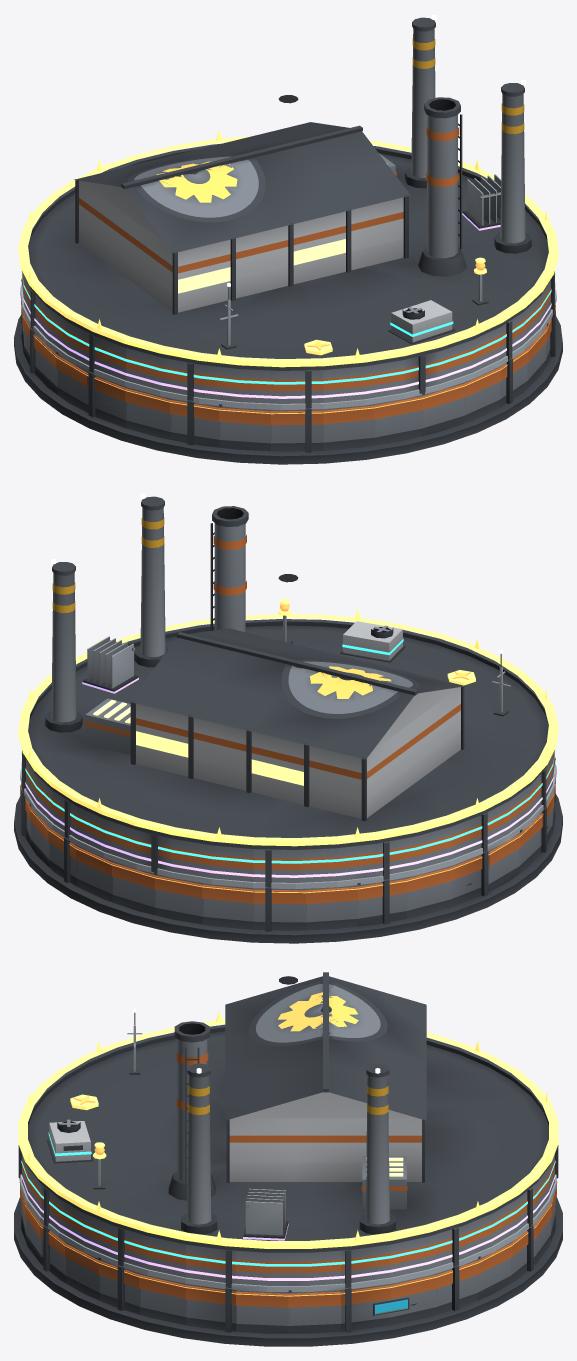
Rendered from refinery.glb.
3 renders of one model, top to bottom at view 1: azimuth 30°, elevation 25°; view 2: azimuth 150°, elevation 25°; view 3: azimuth 270°, elevation 25°, orthographic.
Visible parts, largest first — view 1: Roof, Base, Wall_21, Wall_20, Wall_22, Wall_19, L3, Wall_23, Wall_18, Wall_24, L4, Wall_17 (+22 smaller); view 2: Roof, Base, L4, Wall_10, Wall_11, Wall_09, Wall_12, Wall_08, L3, Wall_13, Wall_07, Wall_14 (+20 smaller); view 3: Roof, Base, Wall_00, Wall_31, Wall_30, L4, Wall_29, Wall_01, Wall_02, Wall_28, Wall_03, L3 (+24 smaller).
Part boxes in pixels (x1,y1,x2,y2): Roof: [23, 14, 552, 370]; Base: [14, 315, 562, 464]; Wall_21: [271, 408, 323, 452]; Wall_20: [219, 404, 270, 451]; Wall_22: [323, 404, 374, 450]; Wall_19: [170, 398, 219, 447]; L3: [388, 300, 455, 344]; Wall_23: [374, 395, 422, 445]; Wall_18: [125, 387, 170, 439]; Wall_24: [421, 382, 465, 436]; L4: [462, 174, 501, 230]; Wall_17: [87, 371, 126, 428]; Roof: [24, 493, 553, 849]; Base: [14, 794, 562, 943]; L4: [82, 636, 138, 693]; Wall_10: [253, 887, 305, 931]; Wall_11: [306, 885, 357, 930]; Wall_09: [202, 883, 253, 929]; Wall_12: [357, 877, 406, 926]; Wall_08: [154, 872, 202, 924]; L3: [340, 621, 405, 662]; Wall_13: [406, 866, 451, 918]; Wall_07: [111, 861, 155, 915]; Wall_14: [450, 850, 489, 907]; Roof: [26, 972, 550, 1252]; Base: [14, 1197, 562, 1346]; Wall_00: [288, 1290, 340, 1333]; Wall_31: [236, 1290, 288, 1333]; Wall_30: [185, 1284, 236, 1332]; L4: [243, 1188, 288, 1240]; Wall_29: [139, 1273, 186, 1325]; Wall_01: [340, 1284, 391, 1332]; Wall_02: [390, 1273, 437, 1325]; Wall_28: [98, 1257, 139, 1314]; Wall_03: [437, 1259, 478, 1314]; L3: [47, 1119, 93, 1163].
Size of the model in its own units: 14.75 by 7.59 by 14.75.
